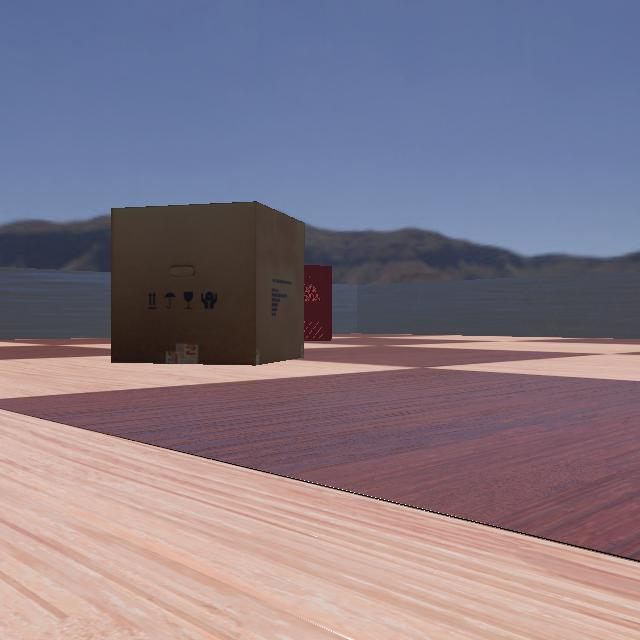cardboard-box: (98, 200, 304, 366)
